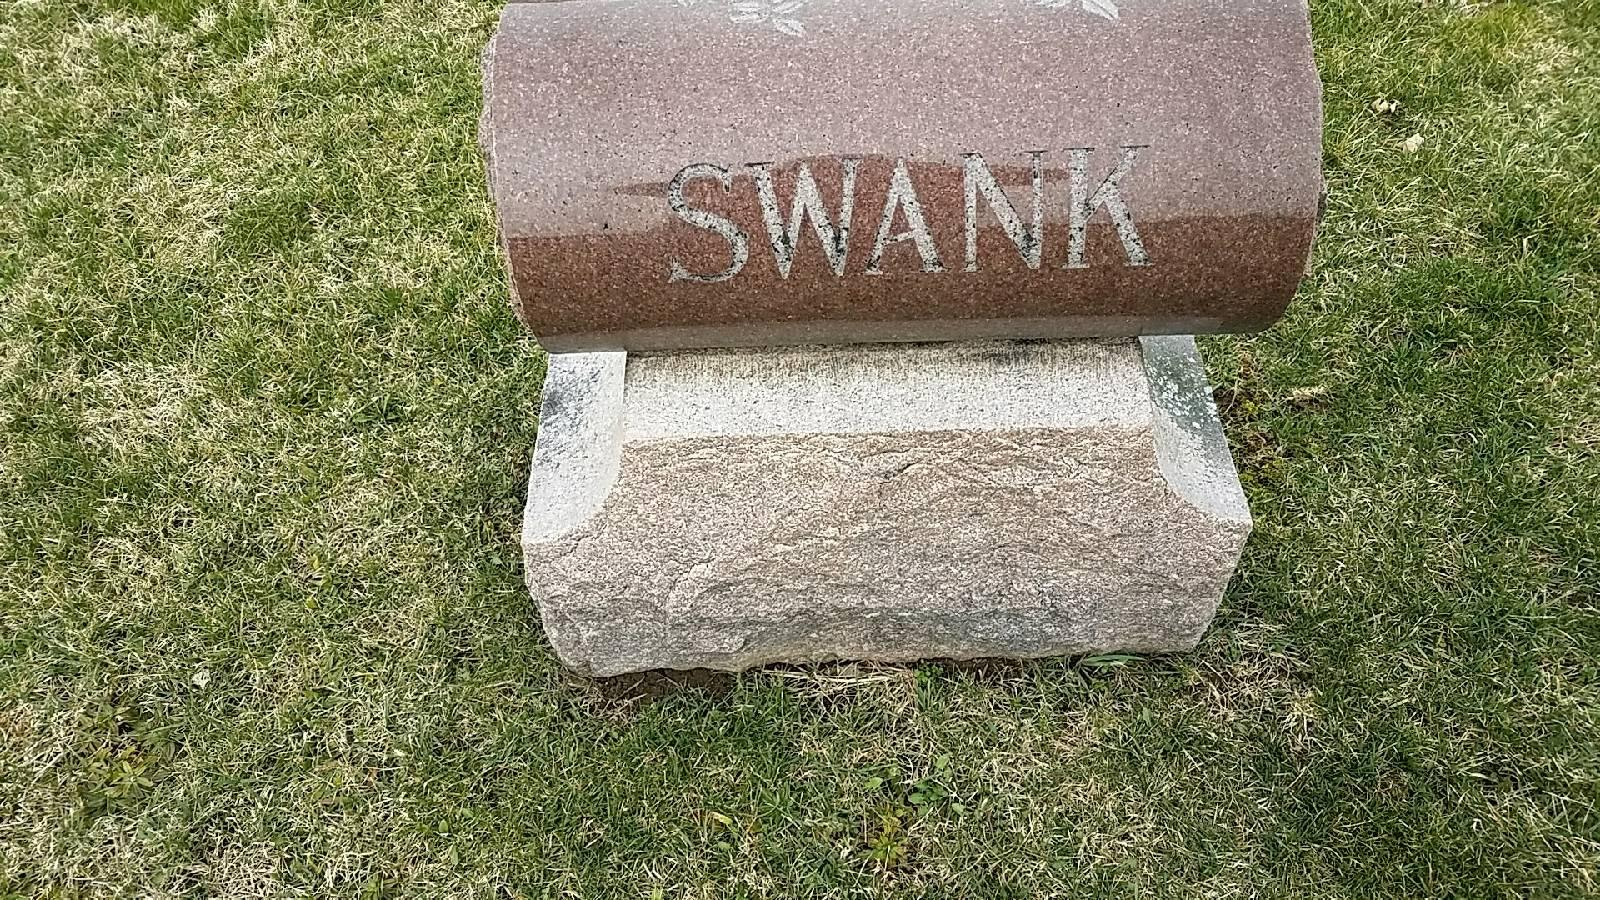upright: (464, 0, 1329, 674)
